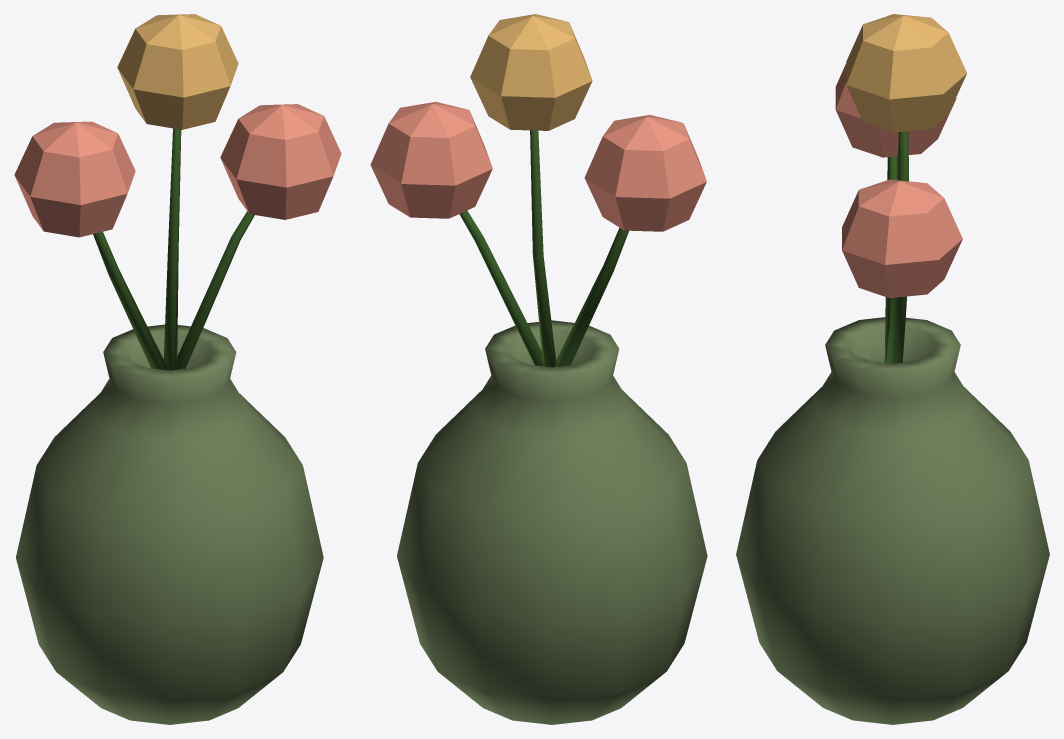
File: vase.glb
3 views of the same model, side by side, from view 1: azimuth 30°, elevation 25°; view 2: azimuth 150°, elevation 25°; view 3: azimuth 270°, elevation 25° (orthographic).
Visible parts, largest first — view 1: vase_ceramic_vase, vase_flower_0, vase_flower_1, vase_flower_2, vase_stem_1, vase_stem_0, vase_stem_2; view 2: vase_ceramic_vase, vase_flower_0, vase_flower_1, vase_flower_2, vase_stem_1, vase_stem_0, vase_stem_2; view 3: vase_ceramic_vase, vase_flower_1, vase_flower_2, vase_flower_0, vase_stem_2, vase_stem_1, vase_stem_0.
Part boxes in pixels (box(x1,y1,x2,y2)): vase_ceramic_vase: box(16, 324, 323, 724); vase_flower_0: box(14, 121, 135, 237); vase_flower_1: box(117, 14, 238, 129); vase_flower_2: box(220, 104, 341, 219); vase_stem_1: box(163, 128, 181, 370); vase_stem_0: box(93, 232, 167, 370); vase_stem_2: box(176, 211, 254, 369); vase_ceramic_vase: box(397, 320, 707, 724); vase_flower_0: box(584, 115, 706, 231); vase_flower_1: box(470, 14, 592, 130); vase_flower_2: box(370, 102, 492, 218); vase_stem_1: box(530, 130, 556, 367); vase_stem_0: box(555, 227, 628, 366); vase_stem_2: box(459, 210, 543, 366); vase_ceramic_vase: box(736, 317, 1049, 724); vase_flower_1: box(846, 14, 966, 132); vase_flower_2: box(842, 179, 962, 297); vase_flower_0: box(835, 63, 956, 157); vase_stem_2: box(886, 296, 904, 363); vase_stem_1: box(898, 131, 908, 362); vase_stem_0: box(884, 156, 898, 362).
Size of the model in its own units: 0.1745 by 0.355 by 0.148.
